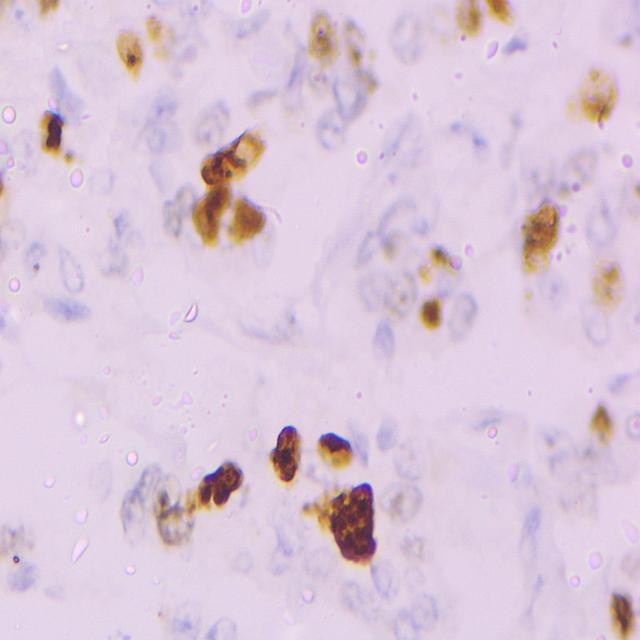Healthy cell: (134, 90, 190, 182), (210, 0, 270, 42), (6, 563, 49, 607), (49, 290, 90, 328), (123, 483, 146, 549), (413, 583, 443, 628), (319, 106, 349, 149), (266, 509, 298, 549), (590, 195, 619, 238), (370, 413, 400, 453), (22, 234, 45, 284), (171, 594, 195, 640), (343, 579, 365, 627), (196, 616, 238, 640), (396, 610, 426, 640), (335, 84, 355, 118), (373, 570, 395, 600)
cancer-cell-QiJm: (564, 61, 640, 138), (334, 473, 378, 567), (199, 130, 263, 189), (147, 485, 202, 552), (583, 242, 634, 308), (353, 262, 411, 316), (197, 458, 250, 514), (519, 199, 554, 280), (334, 10, 376, 77), (237, 84, 307, 124), (317, 420, 362, 479), (266, 418, 306, 484), (599, 576, 640, 640), (228, 193, 272, 249), (140, 8, 179, 68), (553, 136, 601, 183), (193, 186, 226, 254), (298, 492, 336, 550), (403, 6, 452, 50), (444, 0, 486, 49), (169, 187, 199, 255), (376, 471, 416, 522), (380, 286, 418, 336), (0, 170, 24, 247), (396, 529, 438, 573), (112, 29, 147, 81), (308, 9, 336, 74), (382, 199, 429, 237), (420, 283, 448, 345), (33, 109, 69, 157), (599, 18, 640, 58), (414, 244, 454, 284), (365, 226, 403, 265), (487, 0, 523, 38), (0, 519, 28, 561), (1, 0, 24, 48), (584, 409, 610, 450), (34, 0, 64, 33), (518, 276, 540, 320), (358, 62, 383, 100), (458, 288, 473, 338), (54, 146, 88, 168)
